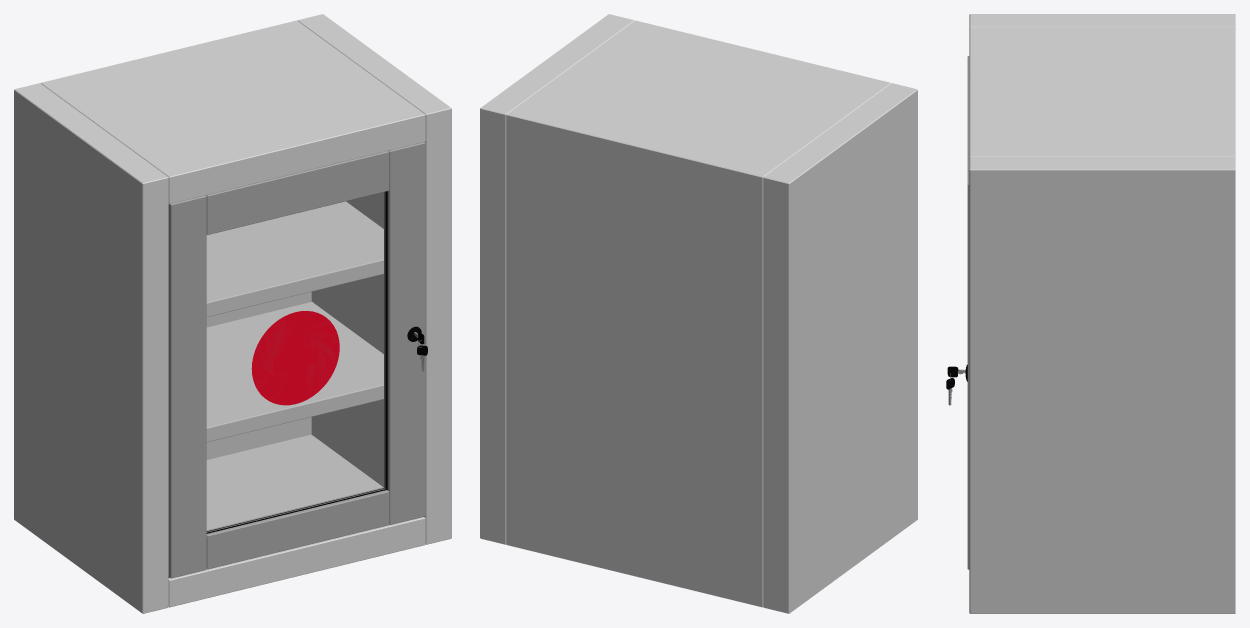
The model's file is armario1.FBX.
3 renders of one model, left to right at view 1: azimuth 30°, elevation 25°; view 2: azimuth 150°, elevation 25°; view 3: azimuth 270°, elevation 25°, orthographic. The views are drawn at different scales.
Parts seen in each view (by area): view 1: object0; view 2: object0; view 3: object0.
Boxes of the visible parts, box(x1,y1,x2,y2) form: object0: box(14, 14, 451, 613); object0: box(480, 14, 917, 613); object0: box(946, 14, 1235, 613).
Bounding box in the file's own units: 88 × 117 × 69.04.
